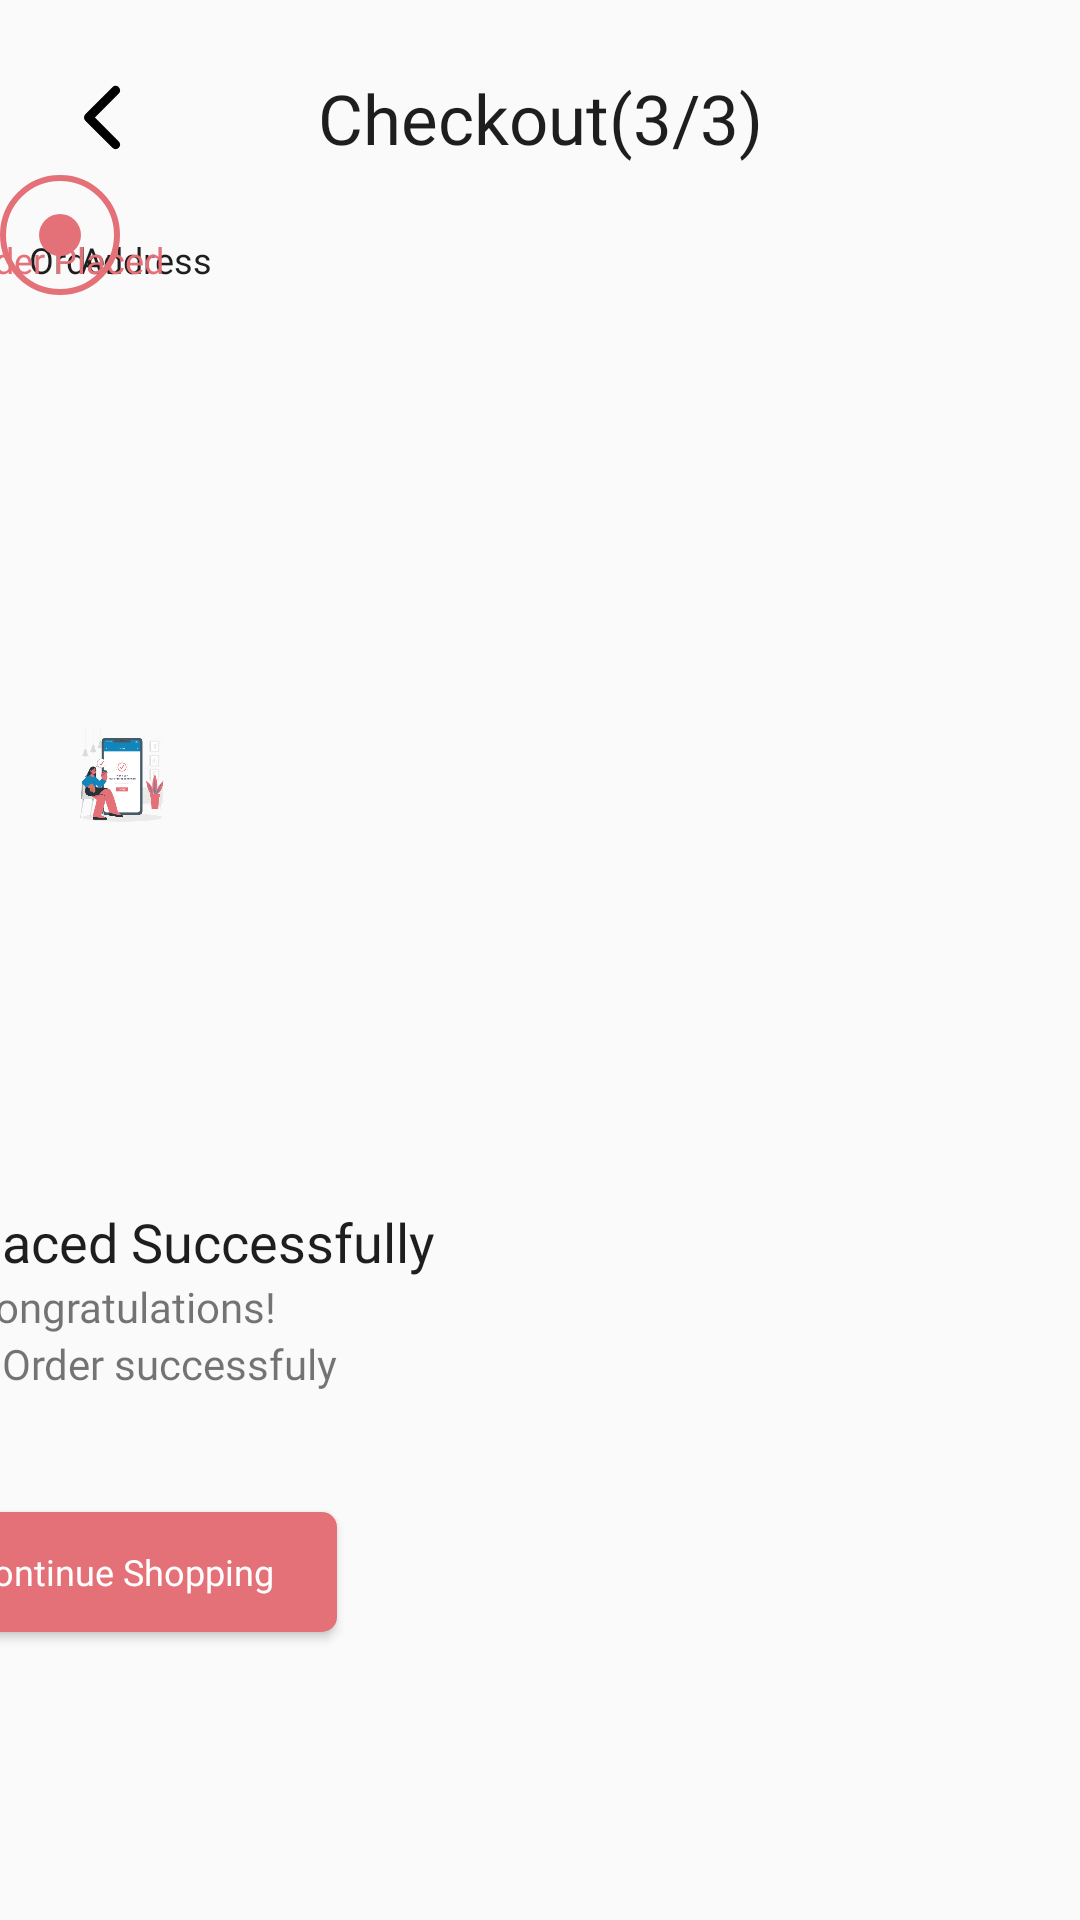

Where icons sit on this 1080px x 1920px app screen, as (left=x1, top=y1, right=x2, bottom=y2):
back: (left=84, top=85, right=120, bottom=150)
finished shopping: (left=80, top=738, right=164, bottom=820)
